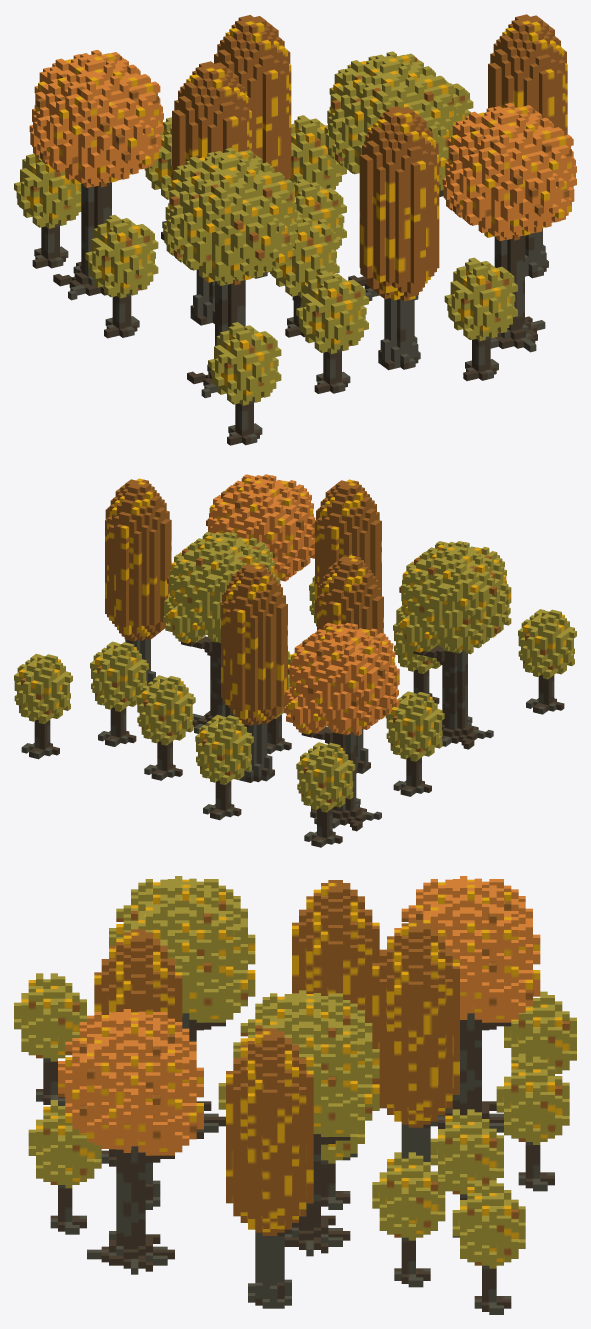
The model's file is trees_9_overtile.glb.
The picture shows the model from 3 angles, top to bottom: view 1: azimuth 30°, elevation 25°; view 2: azimuth 150°, elevation 25°; view 3: azimuth 270°, elevation 25°; orthographic projection. The views are drawn at different scales.
Parts seen in each view (by area): view 1: trees_9_overtile; view 2: trees_9_overtile; view 3: trees_9_overtile.
Part boxes in pixels (<box>): trees_9_overtile: <box>14,14,576,445</box>; trees_9_overtile: <box>14,474,576,847</box>; trees_9_overtile: <box>14,876,576,1314</box>.
Bounding box in the file's own units: 7.7 × 4 × 7.7.
Materials: 1 (1 with a texture image).
